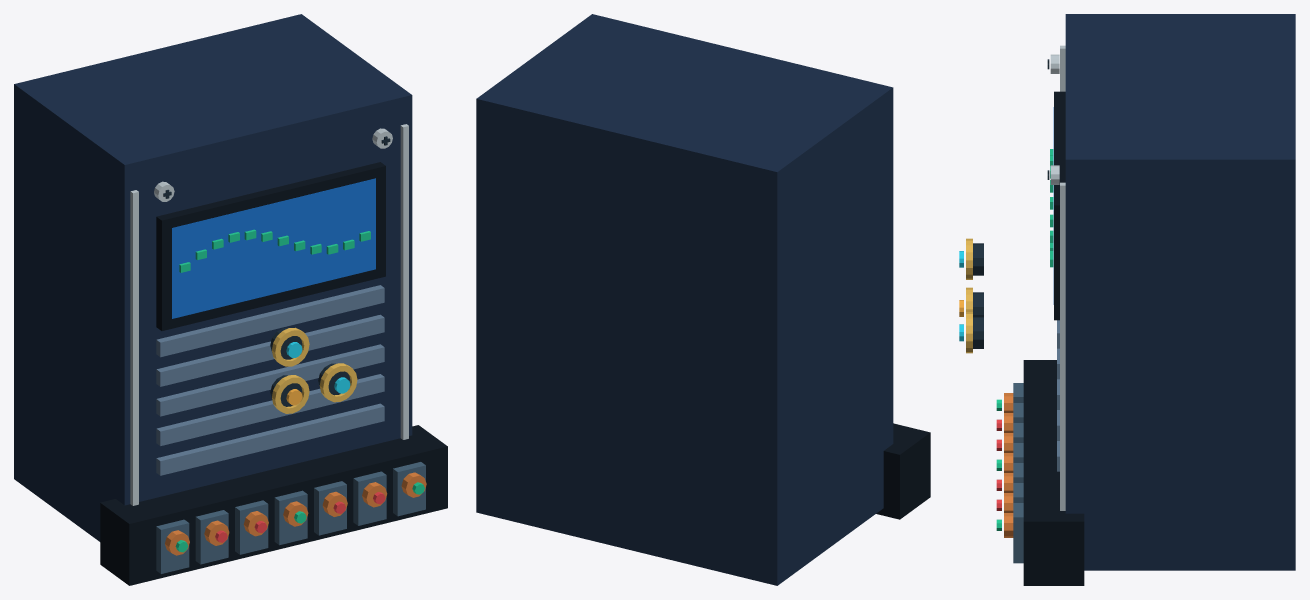
The model's file is 52_L83_AttitudeControlLoadEmulator.fbx.
3 views of the same model, side by side, from view 1: azimuth 30°, elevation 25°; view 2: azimuth 150°, elevation 25°; view 3: azimuth 270°, elevation 25° (orthographic). The views are drawn at different scales.
Parts seen in each view (by area): view 1: AttitudeControlLoadEmulator; view 2: AttitudeControlLoadEmulator; view 3: AttitudeControlLoadEmulator.
Boxes of the visible parts, left/top/right/bottom form: AttitudeControlLoadEmulator: left=14, top=14, right=447, bottom=585; AttitudeControlLoadEmulator: left=476, top=14, right=930, bottom=585; AttitudeControlLoadEmulator: left=959, top=14, right=1295, bottom=585.
Size of the model in its own units: 113 by 136 by 99.35.
